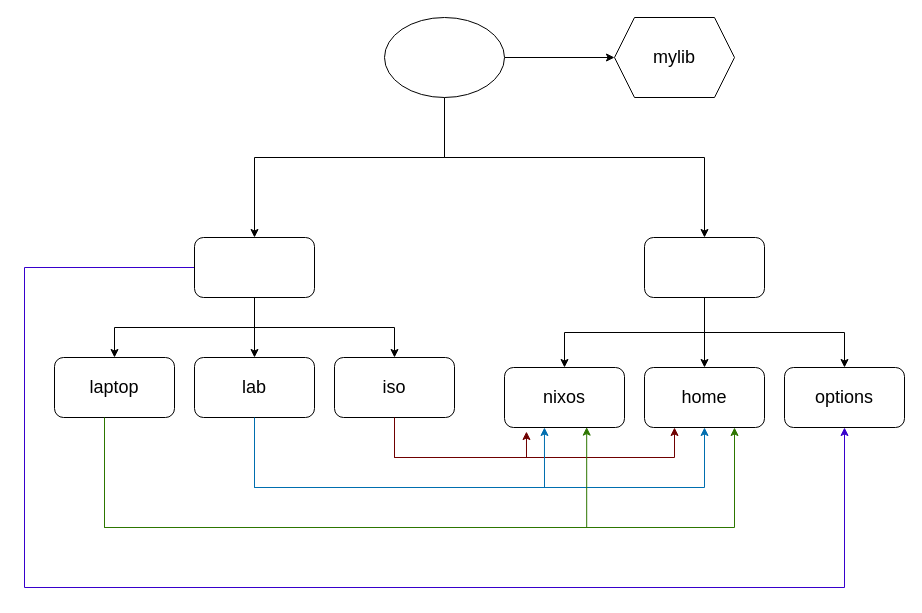
This 922x613 diagram has some shape labels left out. Each missing label, with the box of its shape:
flake.nix: (384, 16, 504, 98)
hosts: (194, 236, 314, 298)
modules: (644, 236, 764, 298)
